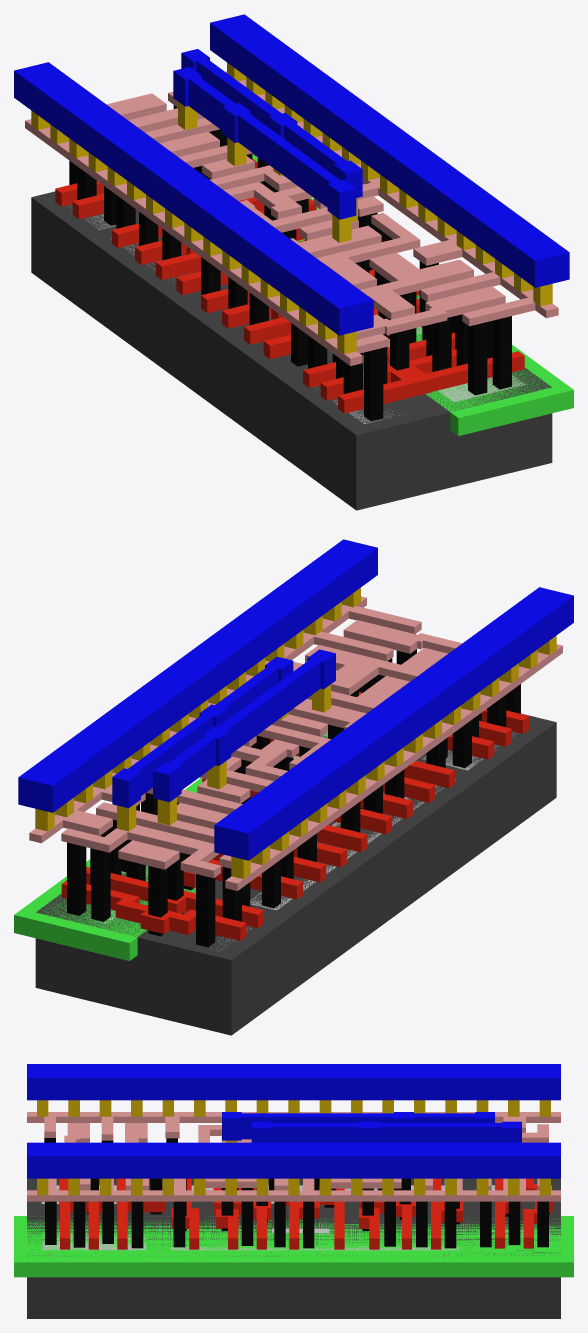
File: sky130_fd_sc_hd__dfxtp_2.obj
3 renders of one model, top to bottom at view 1: azimuth 30°, elevation 25°; view 2: azimuth 150°, elevation 25°; view 3: azimuth 270°, elevation 25°, orthographic. The views are drawn at different scales.
Parts seen in each view (by area): view 1: metal1, subs, li, licon, poly, mcon, nwell, tap; view 2: metal1, subs, li, licon, poly, mcon, nwell, diff; view 3: metal1, subs, nwell, li, licon, poly, mcon, tap.
Boxes of the visible parts, x1,y1,x2,y2 form: metal1: (14, 14, 569, 335); subs: (31, 191, 552, 510); li: (25, 71, 558, 365); licon: (69, 105, 511, 421); poly: (55, 158, 524, 413); mcon: (31, 62, 552, 353); nwell: (252, 154, 573, 435); tap: (416, 327, 525, 402); metal1: (18, 539, 573, 860); subs: (35, 713, 556, 1035); li: (29, 596, 562, 890); licon: (67, 634, 520, 947); poly: (61, 692, 529, 940); mcon: (35, 587, 556, 878); nwell: (14, 732, 327, 960); diff: (210, 733, 516, 951); metal1: (27, 1064, 560, 1178); subs: (27, 1178, 560, 1318); nwell: (14, 1216, 573, 1277); li: (27, 1112, 560, 1201); licon: (44, 1138, 549, 1248); poly: (59, 1178, 553, 1249); mcon: (37, 1100, 550, 1195); tap: (42, 1228, 551, 1250).
Size of the model in its own units: 3.2 by 2.74 by 8.2.
